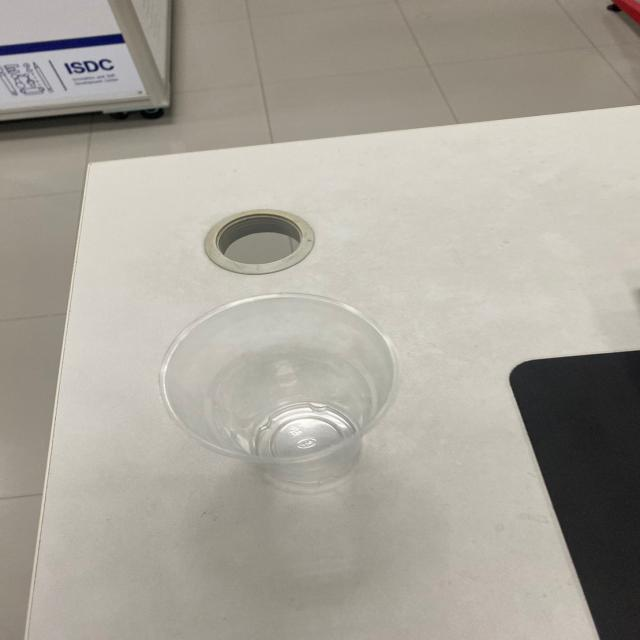glass: (147, 284, 419, 490)
